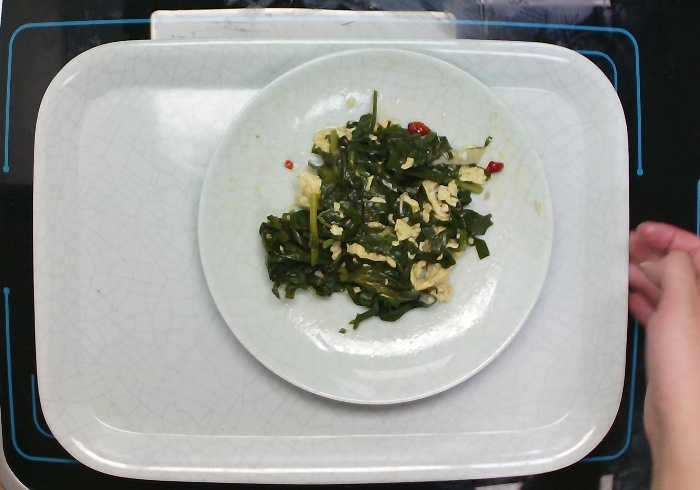JYsf-Da_Yuan_Pan: (195, 46, 556, 407)
